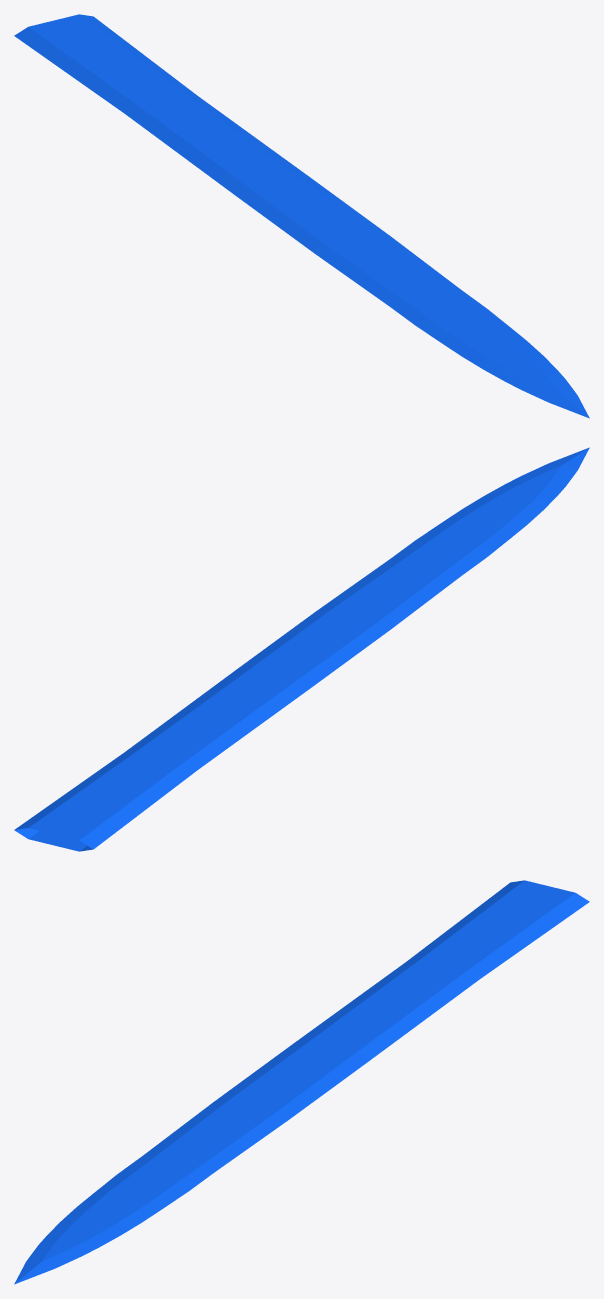
The model's file is blade2.obj.
The picture shows the model from 3 angles, top to bottom: view 1: azimuth 30°, elevation 25°; view 2: azimuth 150°, elevation 25°; view 3: azimuth 330°, elevation 25°; orthographic projection.
Parts seen in each view (by area): view 1: Historical_sword_Milano_1848.002; view 2: Historical_sword_Milano_1848.002; view 3: Historical_sword_Milano_1848.002.
Boxes of the visible parts, bbox=[...] form: Historical_sword_Milano_1848.002: bbox=[14, 14, 589, 418]; Historical_sword_Milano_1848.002: bbox=[14, 447, 589, 851]; Historical_sword_Milano_1848.002: bbox=[14, 880, 589, 1284].
Size of the model in its own units: 0.056 by 0.00754 by 0.6539.
